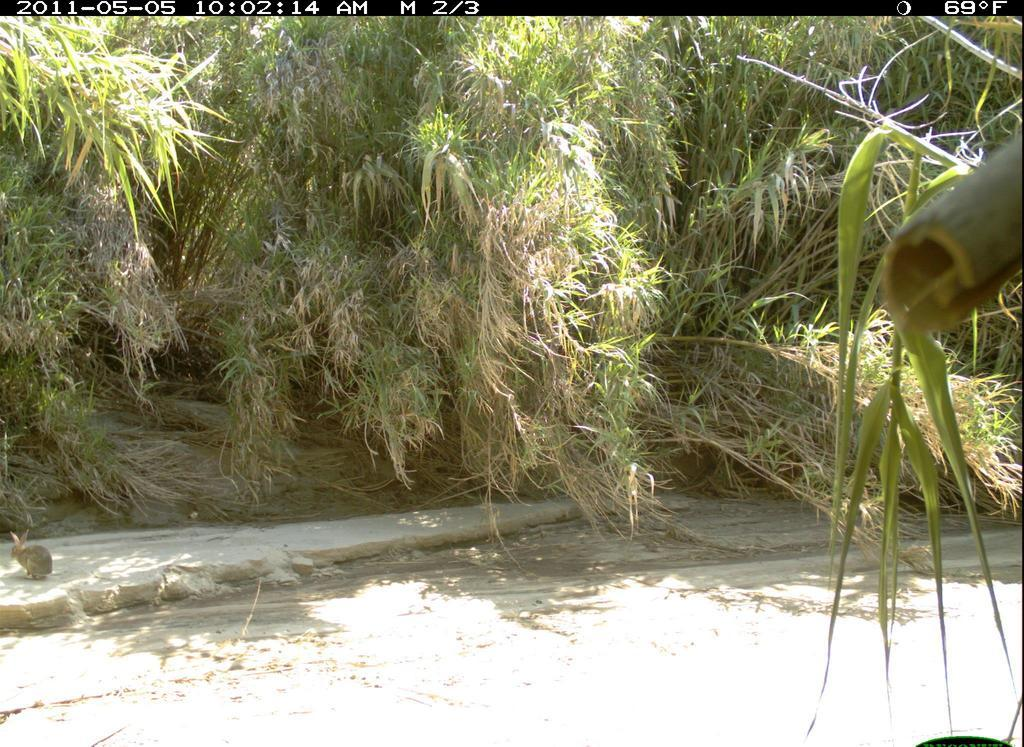rabbit: (4, 528, 61, 587)
